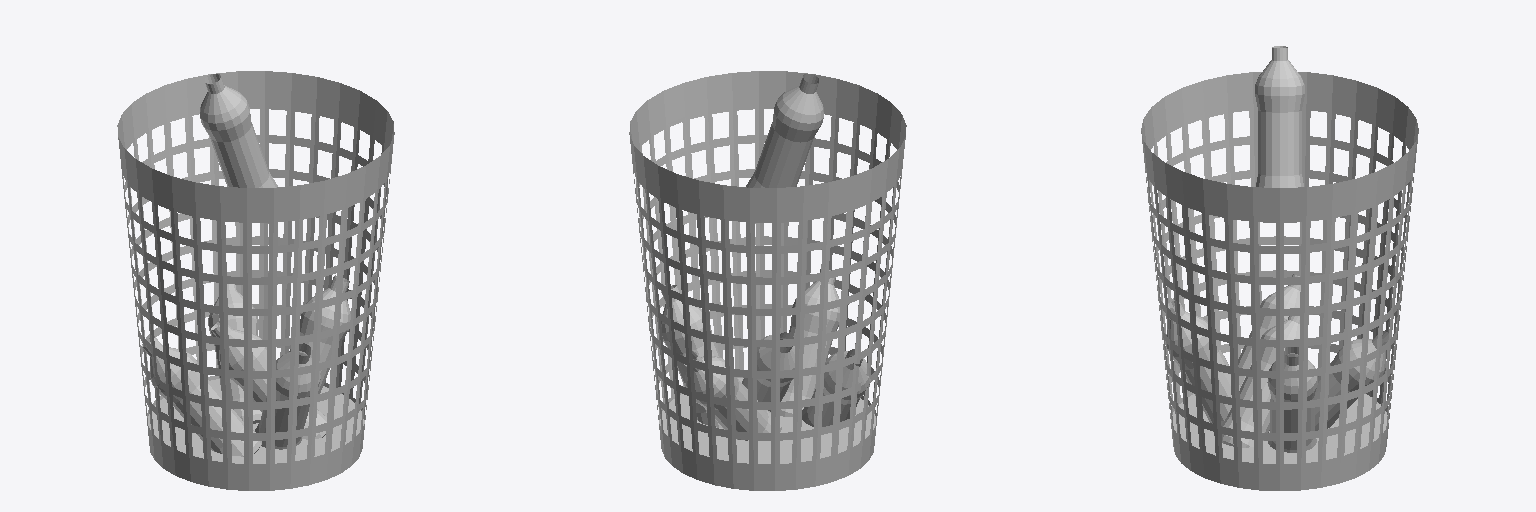
The model's file is DustbinWithCan_000022.obj.
The picture shows the model from 3 angles: view 1: azimuth 30°, elevation 25°; view 2: azimuth 150°, elevation 25°; view 3: azimuth 270°, elevation 25°; orthographic projection.
Parts seen in each view (by area): view 1: Cylinder, Plane.006, Plane.005, Plane.001, Plane.004, Plane.003, Plane.002; view 2: Cylinder, Plane.006, Plane.001, Plane.002, Plane.005, Plane.003, Plane.004; view 3: Cylinder, Plane.006, Plane.001, Plane.003, Plane.004, Plane.002, Plane.005.
Boxes of the visible parts, x1,y1,x2,y2 form: Cylinder: [117, 71, 394, 490]; Plane.006: [200, 74, 277, 187]; Plane.005: [142, 336, 261, 456]; Plane.001: [255, 343, 320, 449]; Plane.004: [211, 321, 326, 439]; Plane.003: [289, 275, 350, 393]; Plane.002: [208, 284, 261, 423]; Cylinder: [629, 71, 906, 490]; Plane.006: [746, 74, 823, 187]; Plane.001: [770, 269, 839, 416]; Plane.002: [684, 351, 781, 440]; Plane.005: [802, 349, 870, 426]; Plane.003: [661, 285, 721, 427]; Plane.004: [742, 332, 794, 410]; Cylinder: [1141, 72, 1418, 490]; Plane.006: [1255, 46, 1304, 187]; Plane.001: [1166, 301, 1240, 424]; Plane.003: [1267, 347, 1317, 452]; Plane.004: [1221, 316, 1299, 447]; Plane.002: [1315, 331, 1388, 430]; Plane.005: [1238, 274, 1300, 385].
Bounding box in the file's own units: 2.6 × 3.93 × 2.6.